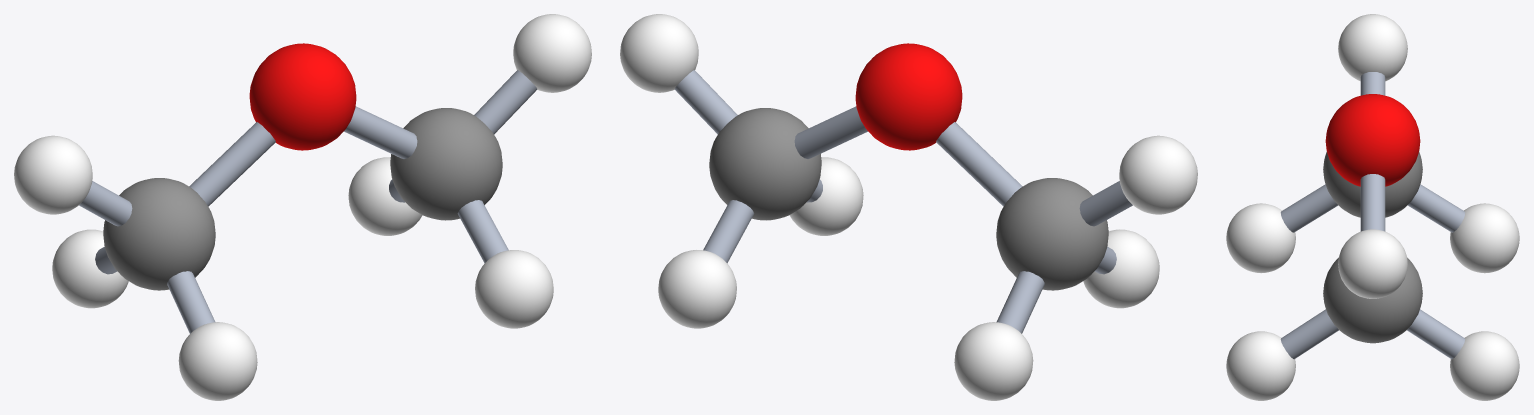
The model's file is dimethyl-ether.glb.
3 views of the same model, side by side, from view 1: azimuth 30°, elevation 25°; view 2: azimuth 150°, elevation 25°; view 3: azimuth 270°, elevation 25° (orthographic). The views are drawn at different scales.
Visible parts, largest first — view 1: H (×6), C (×2), bond (×6), O; view 2: H (×6), C (×2), bond (×6), O; view 3: H (×6), bond (×6), C (×2), O.
Part boxes in pixels (x1,y1,x2,y2): H (×6): [14, 14, 591, 400]; C (×2): [103, 108, 502, 290]; bond (×6): [79, 70, 537, 333]; O: [249, 43, 356, 150]; H (×6): [620, 14, 1197, 400]; C (×2): [709, 108, 1108, 290]; bond (×6): [674, 70, 1132, 333]; O: [855, 43, 962, 150]; H (×6): [1226, 14, 1519, 400]; bond (×6): [1280, 72, 1465, 359]; C (×2): [1323, 151, 1422, 343]; O: [1325, 94, 1420, 186].
Size of the model in its own units: 0.22 by 0.0987 by 0.1115.
